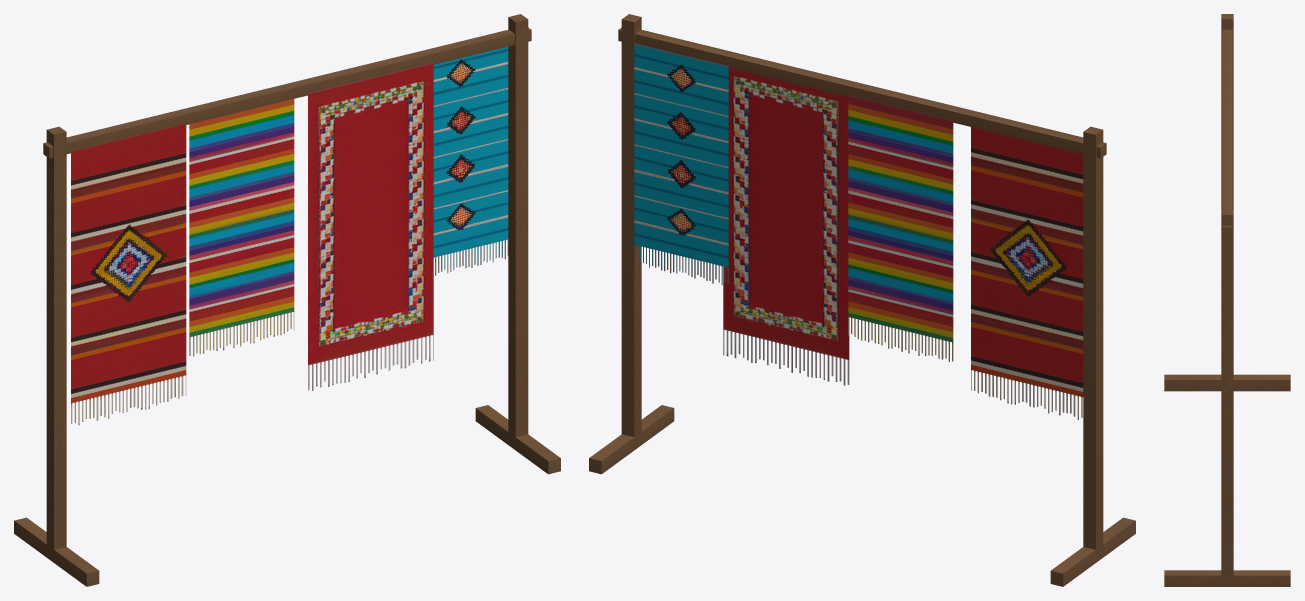
Rendered from tendedero.obj.
3 views of the same model, side by side, from view 1: azimuth 30°, elevation 25°; view 2: azimuth 150°, elevation 25°; view 3: azimuth 270°, elevation 25° (orthographic). The views are drawn at different scales.
Visible parts, largest first — view 1: tendedero; view 2: tendedero; view 3: tendedero.
Boxes of the visible parts, x1=… form: tendedero: x1=14, y1=14, x2=560, y2=586; tendedero: x1=589, y1=14, x2=1135, y2=586; tendedero: x1=1164, y1=14, x2=1290, y2=586.
Size of the model in its own units: 2.3 by 1.95 by 0.6.
